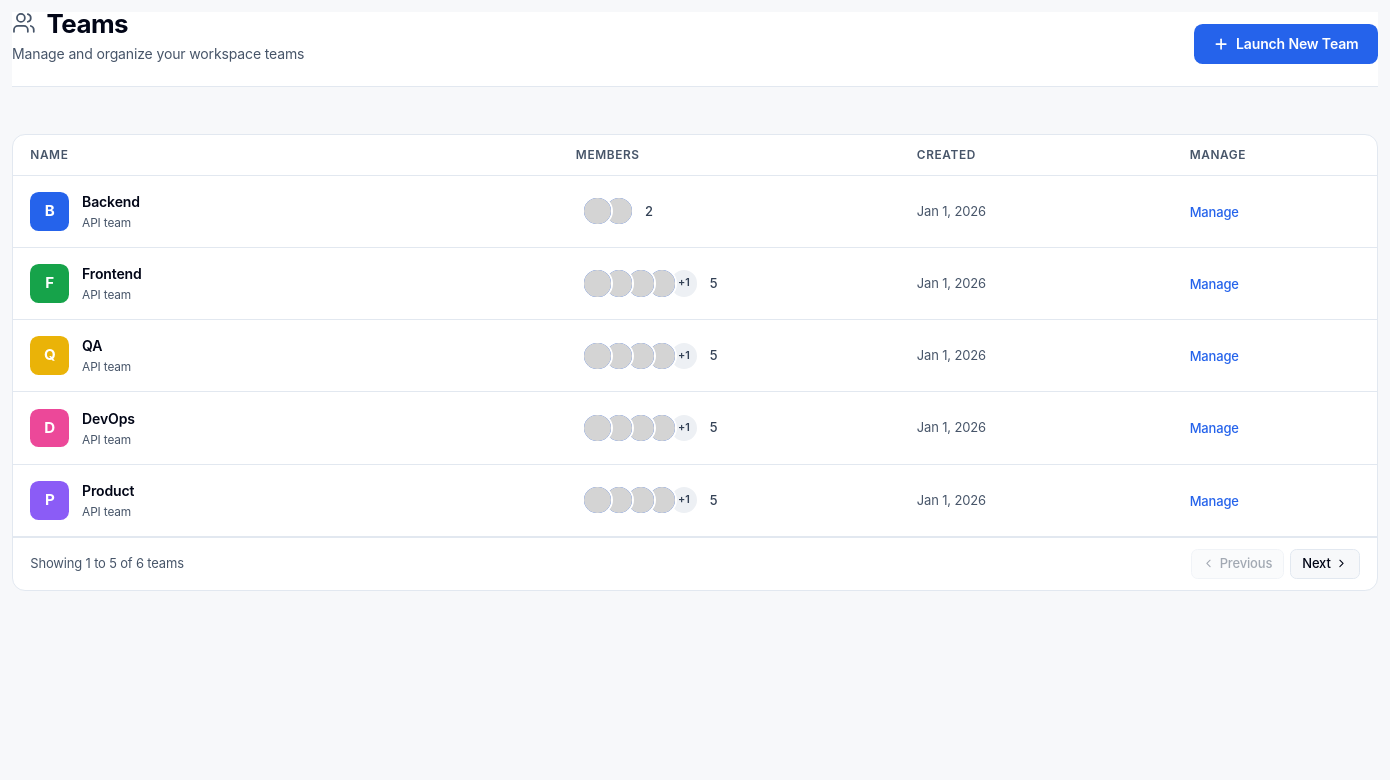
it: TeamsPage › renders teams, pagination and resolved member counts
This screenshot has width=1390, height=780.
Check: the text "Backend" is shown, box [82, 191, 140, 212]
Check: the text "Frontend" is shown, box [82, 263, 142, 284]
Click the button "Next" at (1325, 564), box [1290, 549, 1360, 579]
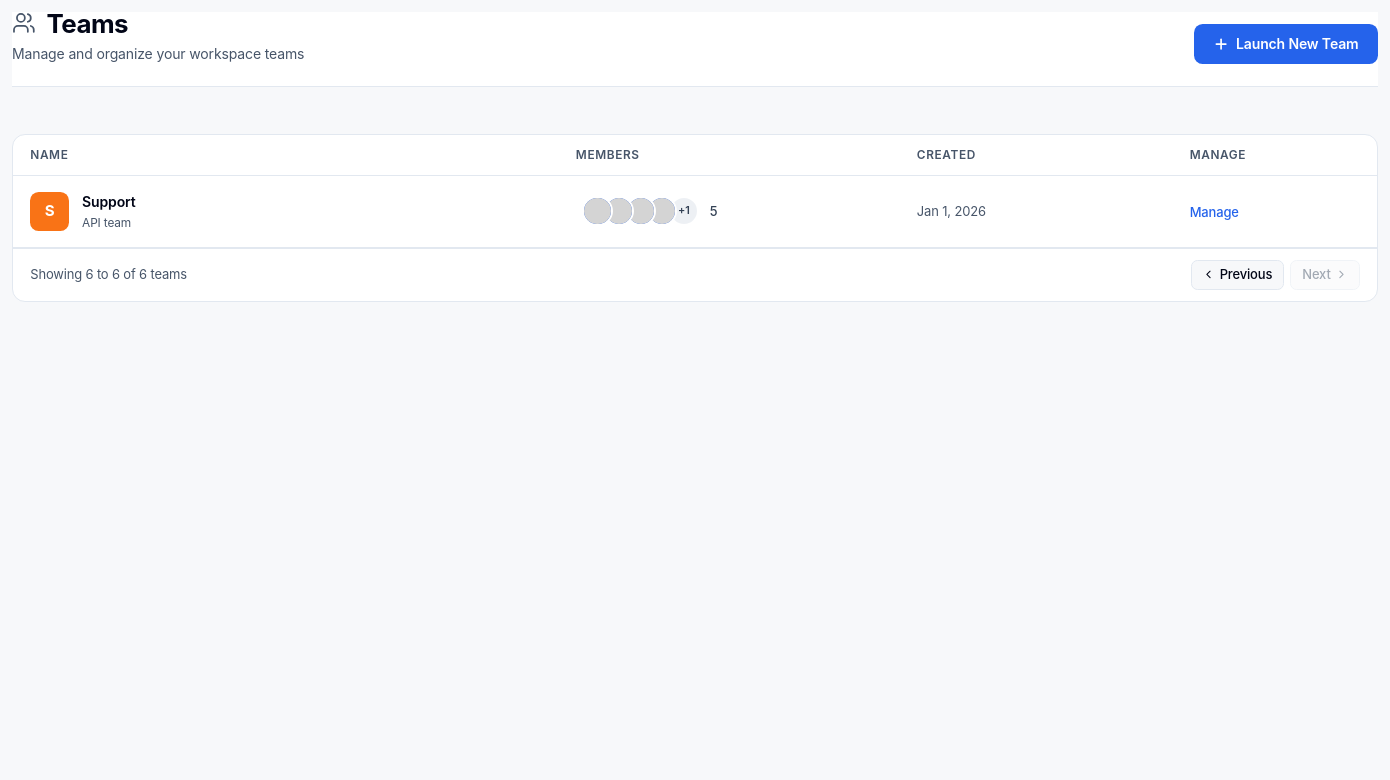
Check: the text "Support" is shown, box [82, 191, 136, 212]
